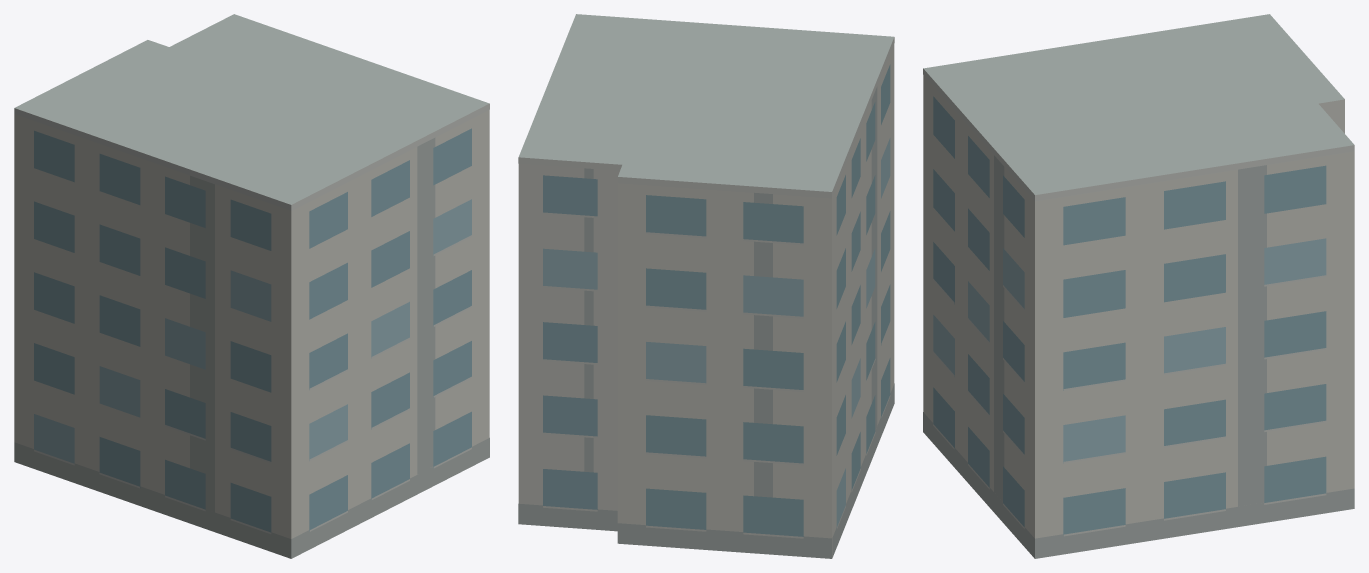
Rendered from survey-upis-32853953.glb.
3 renders of one model, left to right at view 1: azimuth 30°, elevation 25°; view 2: azimuth 150°, elevation 25°; view 3: azimuth 270°, elevation 25°, orthographic. The views are drawn at different scales.
Parts seen in each view (by area): view 1: survey-upis-32853953.tmp; view 2: survey-upis-32853953.tmp; view 3: survey-upis-32853953.tmp.
Boxes of the visible parts, bbox=[...] form: survey-upis-32853953.tmp: bbox=[14, 14, 489, 558]; survey-upis-32853953.tmp: bbox=[518, 14, 894, 558]; survey-upis-32853953.tmp: bbox=[923, 14, 1354, 558].
Size of the model in its own units: 15.18 by 14.2 by 15.28.
